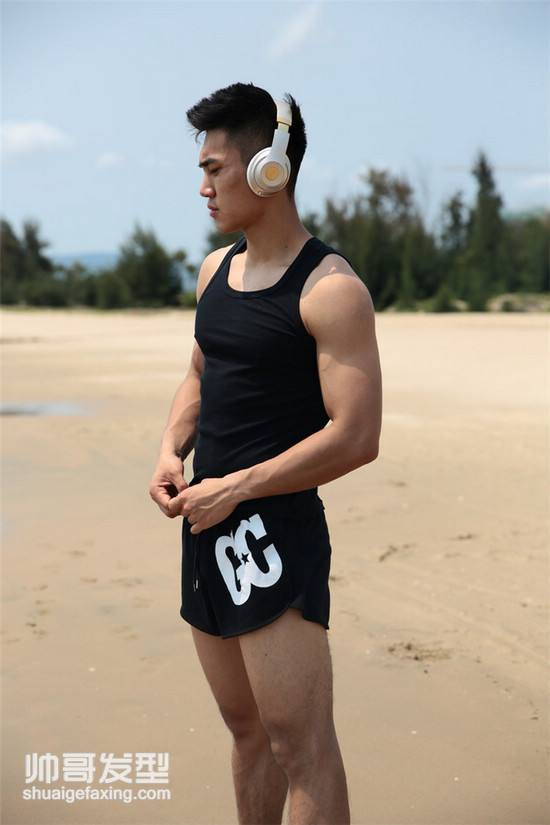person: (142, 84, 371, 772)
